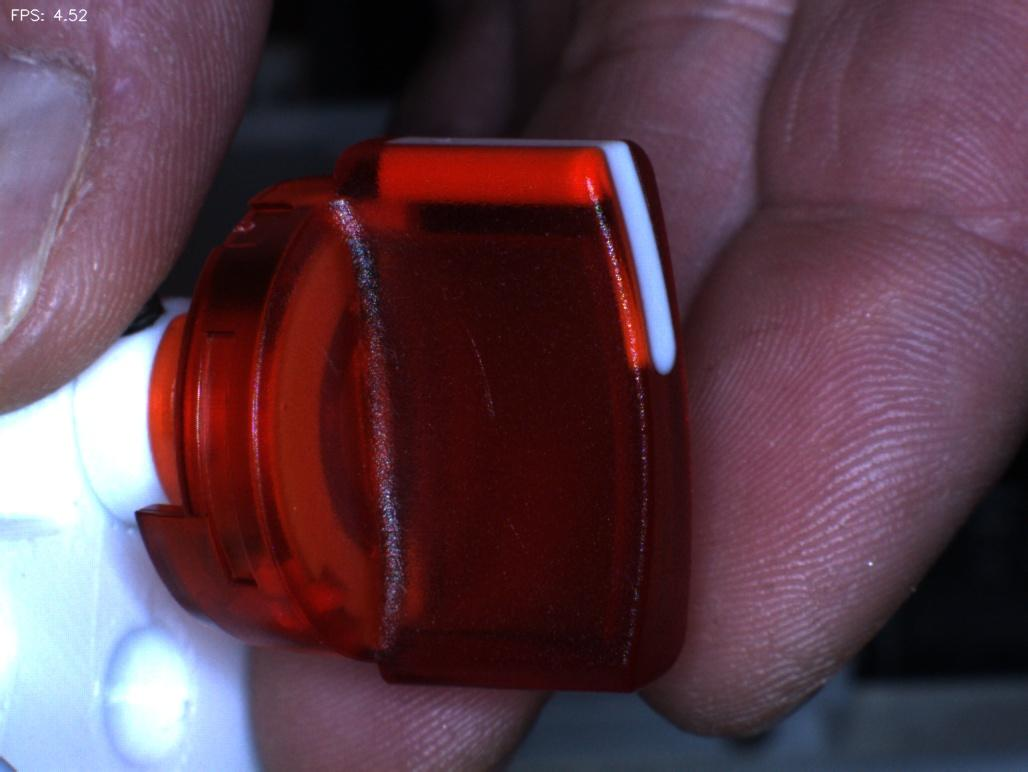Givrage: (431, 298, 527, 450)
